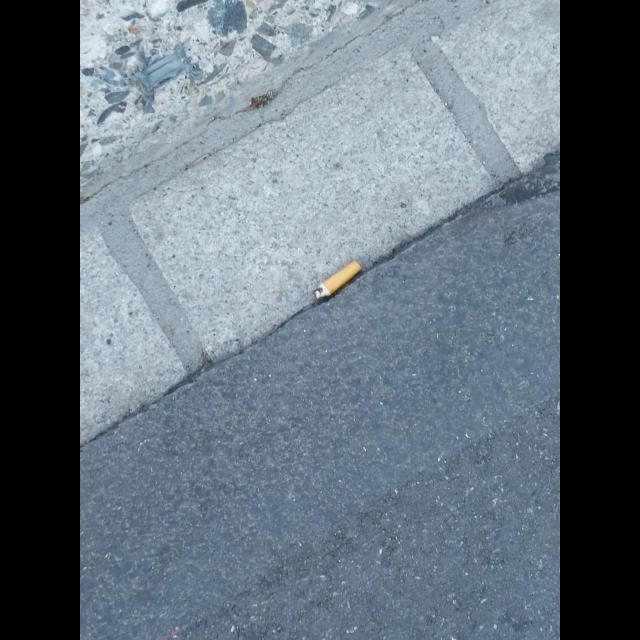cigarette: (313, 260, 362, 300)
